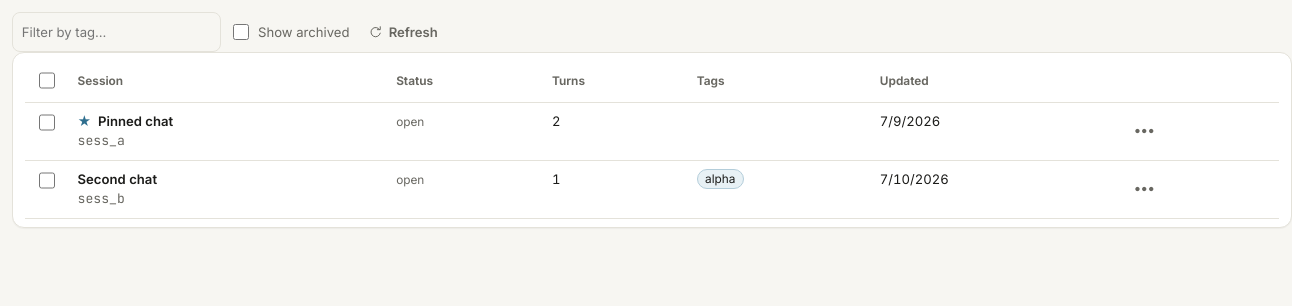
it: SessionsView organisation › clears hidden selections when the tag filter changes
Expected: the text "Pinned chat" is shown, [94,113,173,129]
Click the checkbox named "Select all sessions".
click(47, 80)  # box [39,72,55,89]
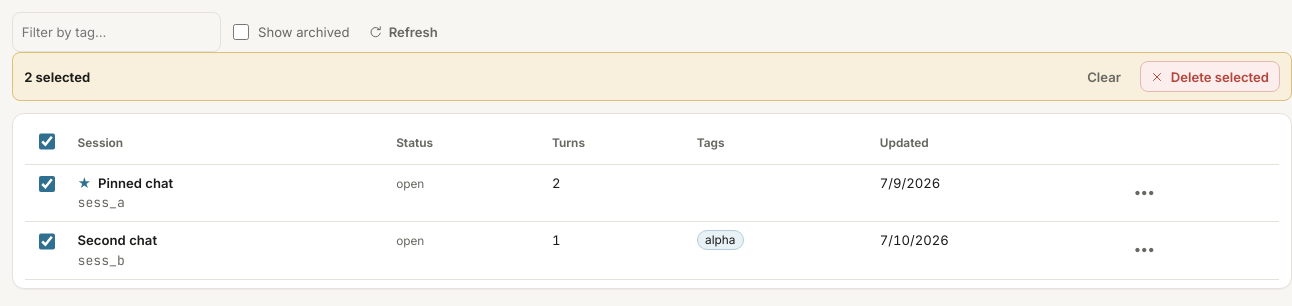
Result: the text "2 selected" is shown at [24,67,90,87]
Type "alpha" into the field named "Filter sessions by tag".
click(116, 32); type("alpha")  # box [12,12,221,52]
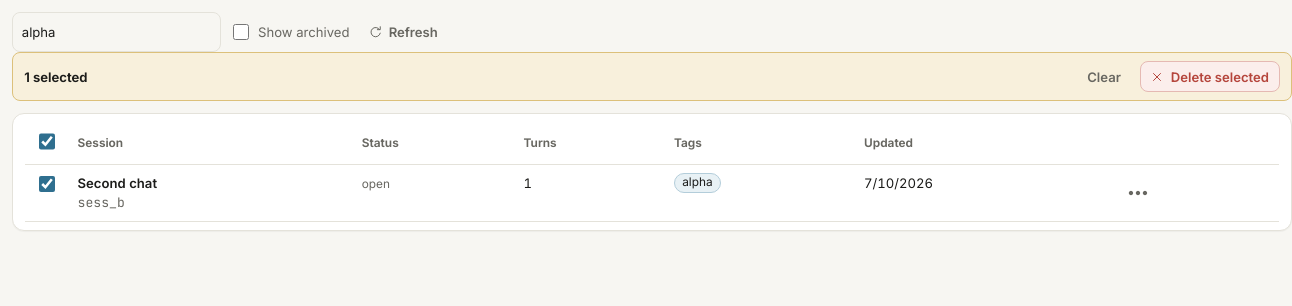
Result: the text "1 selected" is shown at [24,67,88,87]
